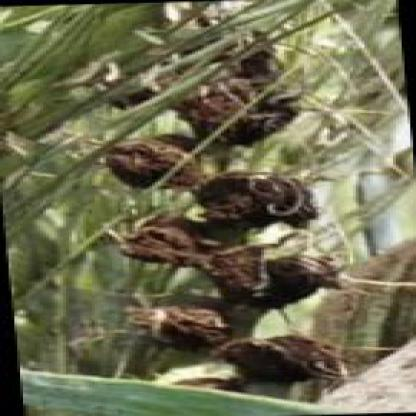Wheat Smut: (214, 256, 305, 291), (232, 338, 320, 374), (197, 96, 283, 132), (142, 305, 218, 340), (119, 145, 187, 179), (212, 179, 285, 210), (133, 224, 203, 256), (229, 54, 288, 74), (242, 214, 316, 226)
